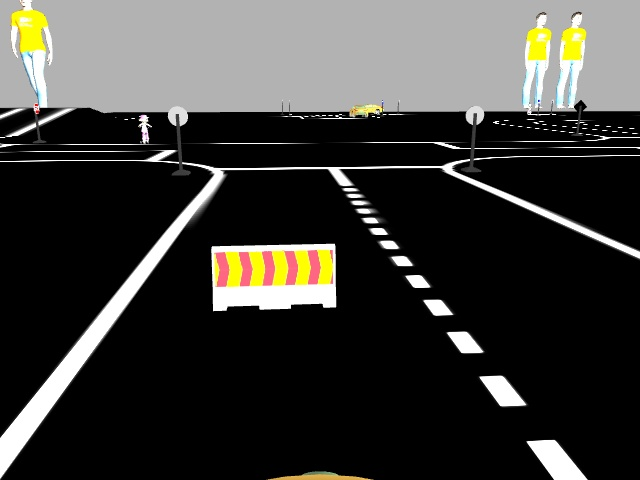ClosedRoadStand: (212, 247, 335, 305)
